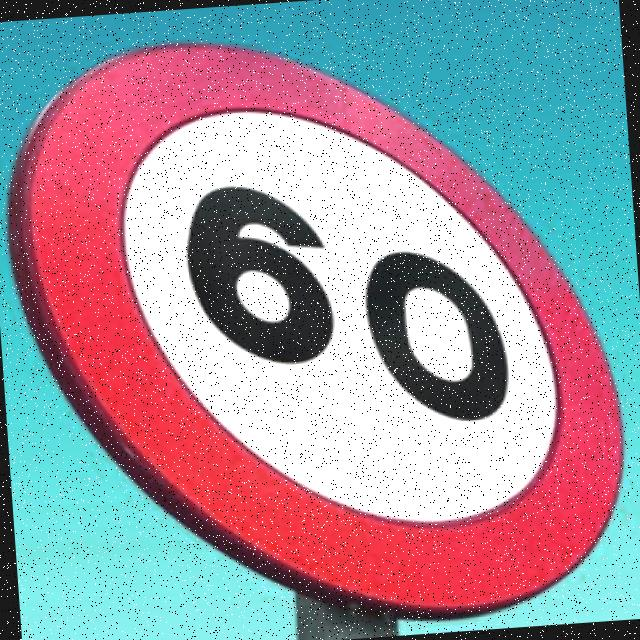Ograniczenie predkosci do 60: (0, 9, 628, 640)
